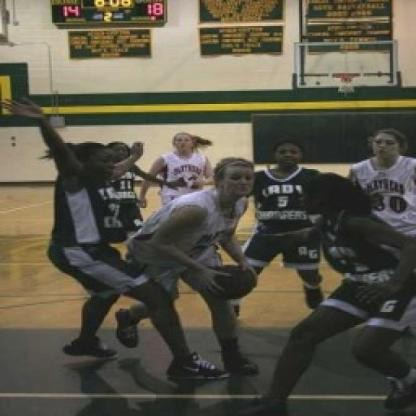basketball: (213, 262, 255, 304)
